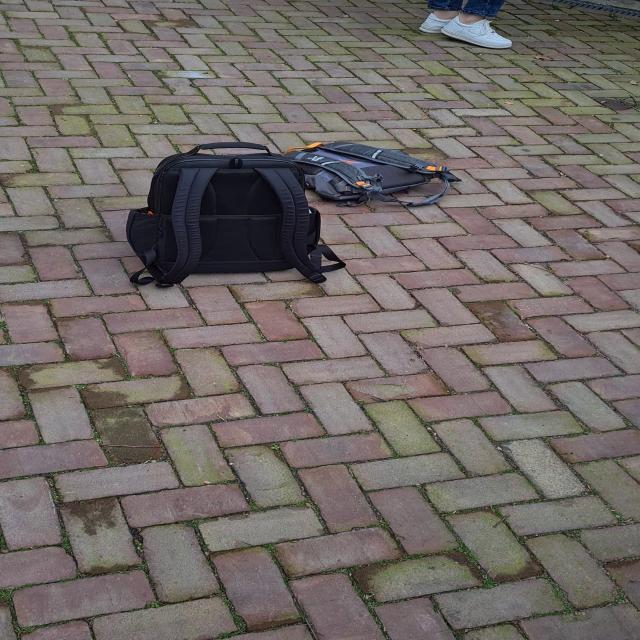backpack: (114, 138, 328, 286), (278, 140, 462, 206)
